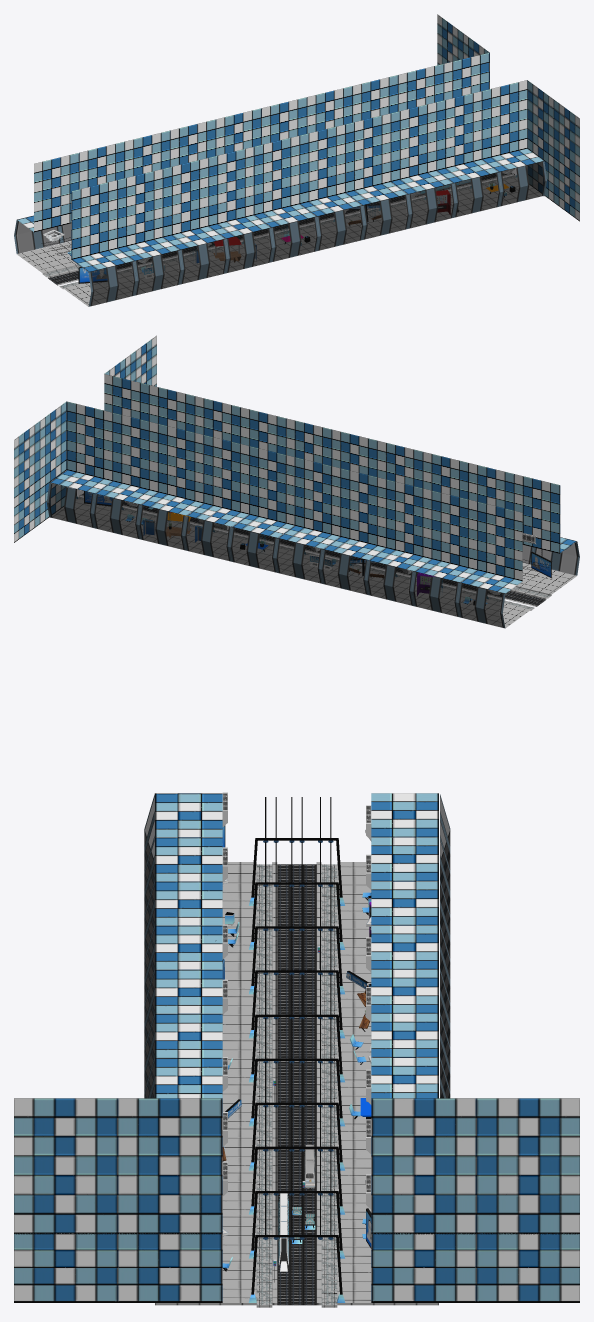
The model's file is subwaysurferstest32.glb.
3 renders of one model, top to bottom at view 1: azimuth 30°, elevation 25°; view 2: azimuth 150°, elevation 25°; view 3: azimuth 270°, elevation 25°, orthographic. The views are drawn at different scales.
Visible parts, largest first — view 1: tiledwall.016, tiledwall, tiledwall.005, tiledwall.018, tiledwall.019, tiledwall.024, tiledwall.006, tiledwall.017, tiledwall.003, tiledwall.023, tiledwall.025, tiledwall.001 (+35 smaller); view 2: tiledwall.013, tiledwall.021, tiledwall.025, tiledwall.009, tiledwall.012, tiledwall.022, tiledwall.020, tiledwall.027, tiledwall.007, tiledwall.026, tiledwall.024, tiledwall.008 (+36 smaller); view 3: tiledwall.001, tiledwall.002, tiledwall.008, tiledwall.014, tiledwall.010, tiledwall.004, tiledwall.011, tiledwall.015, tiledwall.016, tiledwall.017, tiledwall.018, tiledwall.019 (+40 smaller).
Boxes of the visible parts, x1,y1,x2,y2 form: tiledwall.016: (162, 158, 224, 249); tiledwall: (481, 80, 543, 171); tiledwall.005: (390, 102, 452, 194); tiledwall.018: (253, 136, 316, 227); tiledwall.019: (208, 147, 270, 238); tiledwall.024: (71, 180, 133, 272); tiledwall.006: (345, 113, 407, 205); tiledwall.017: (299, 124, 361, 216); tiledwall.003: (436, 91, 498, 183); tiledwall.023: (117, 169, 179, 260); tiledwall.025: (17, 152, 79, 232); tiledwall.001: (527, 80, 553, 167); tiledwall.013: (50, 401, 112, 493); tiledwall.021: (278, 457, 340, 548); tiledwall.025: (460, 501, 522, 593); tiledwall.009: (141, 423, 203, 515); tiledwall.012: (95, 412, 157, 504); tiledwall.022: (232, 446, 294, 537); tiledwall.020: (323, 468, 385, 560); tiledwall.027: (369, 479, 431, 571); tiledwall.007: (187, 435, 248, 526); tiledwall.026: (415, 490, 476, 582); tiledwall.024: (514, 474, 576, 553); tiledwall.008: (14, 421, 40, 508); tiledwall.001: (118, 1098, 222, 1234); tiledwall.002: (14, 1098, 118, 1234); tiledwall.008: (475, 1098, 579, 1234); tiledwall.014: (371, 1098, 475, 1234); tiledwall.010: (14, 1233, 118, 1302); tiledwall.004: (118, 1233, 222, 1302); tiledwall.011: (475, 1233, 579, 1302); tiledwall.015: (371, 1233, 475, 1302); tiledwall.016: (155, 881, 222, 925); tiledwall.017: (155, 1013, 222, 1057); tiledwall.018: (155, 969, 222, 1013); tiledwall.019: (155, 925, 222, 969).
Size of the model in its own units: 403 by 88.5 by 217.
Materials: 4 (4 with a texture image).
